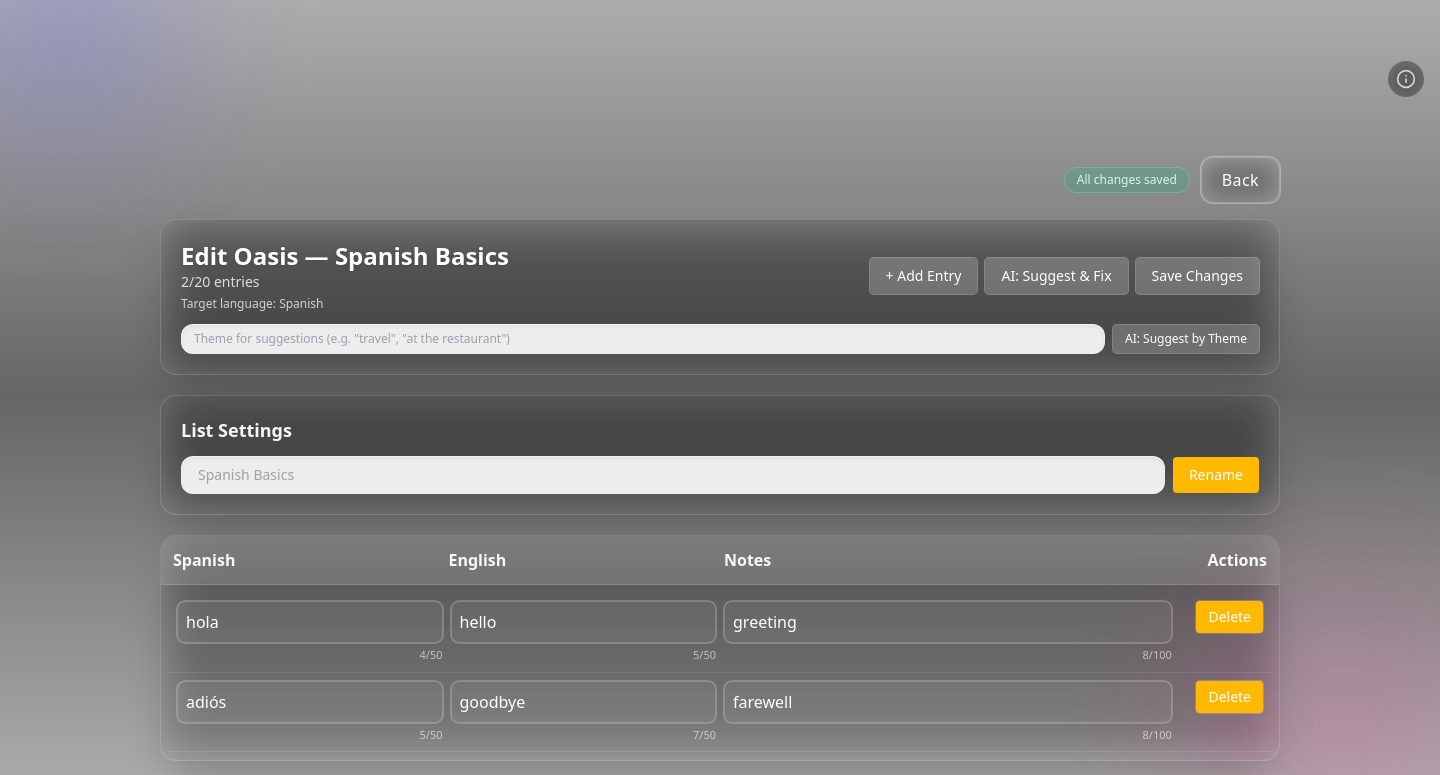
Test: EditOasisPage › submits theme suggestions on Enter key press
The width and height of the screenshot is (1440, 775).
Expected: the 1st field showing "hola" is shown, [177,601,442,643]
Note: Enter theme and press Enter
Type "travel" into the field with placeholder "Theme for suggestions (e.g. \"travel\", \"at the restaurant\")".
click(643, 339); type("travel")  # box [181,324,1105,354]
Then press Enter
(page scrolled)
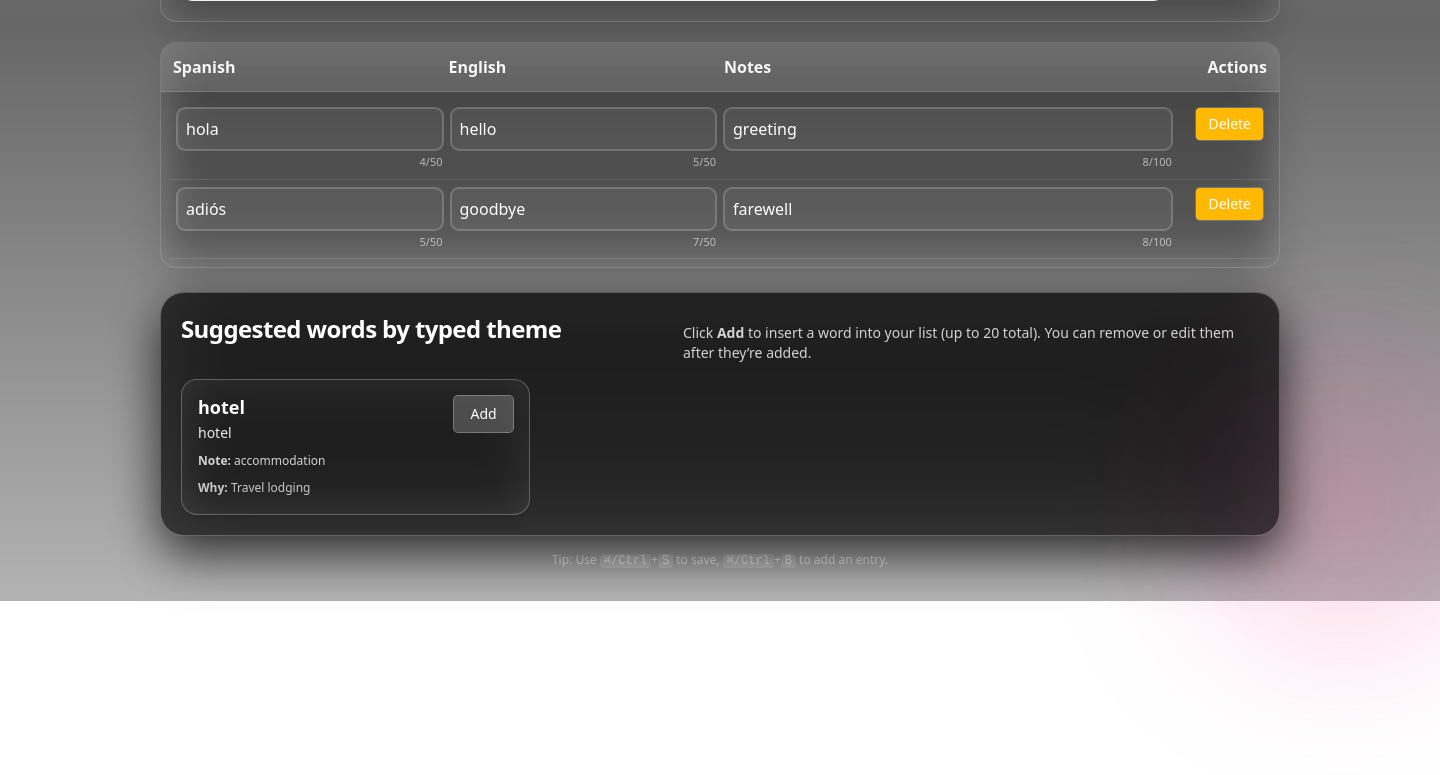
Result: the 1st text "hotel" is shown at [198,396,245,418]
